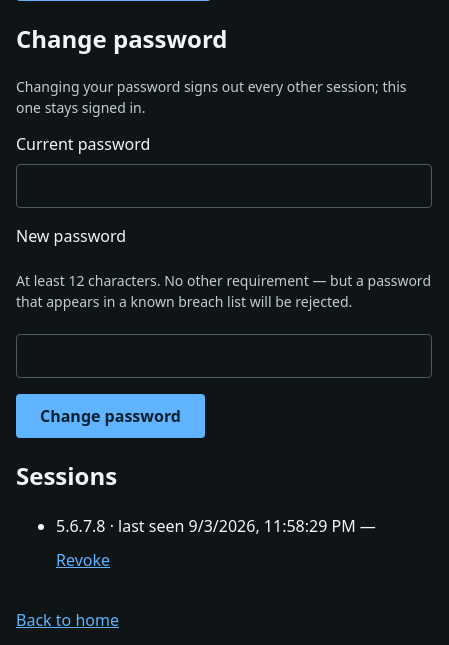
Test: Account (S-07, docs/32_UX/Screen_Inventory.md §3) › revokes a session
(page scrolled)
What coordinates should you click on to do the following:
click the button "Revoke"
I would click on:
 (83, 560)
Its box is [56,538,110,582].
(page scrolled)
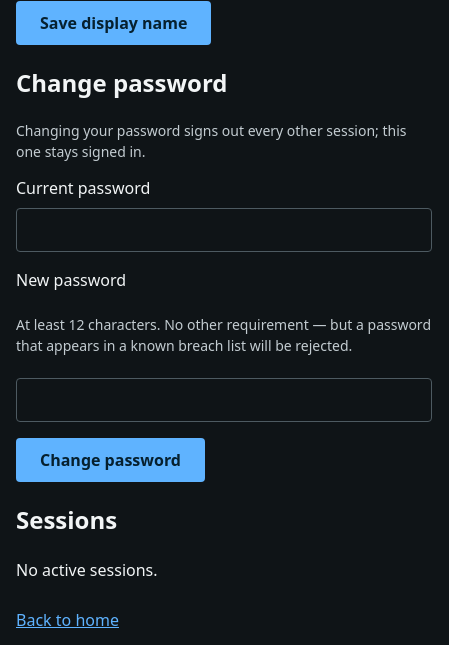
Expected: the button "Revoke" is gone
